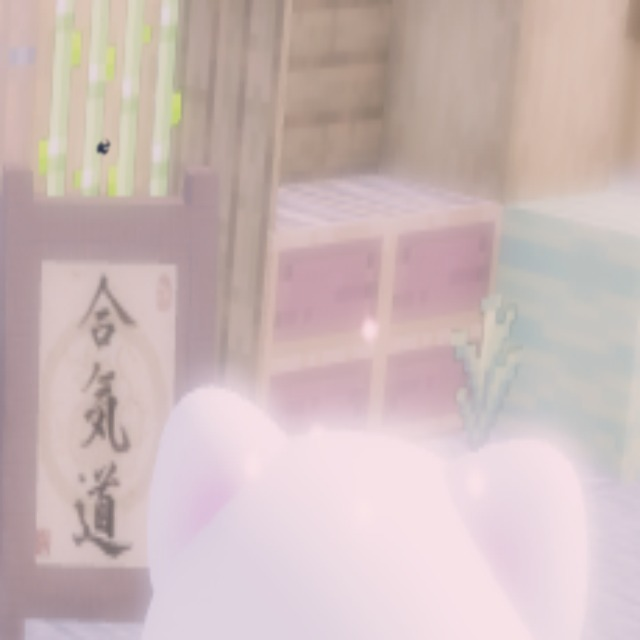urso_preto: (91, 134, 116, 160)
